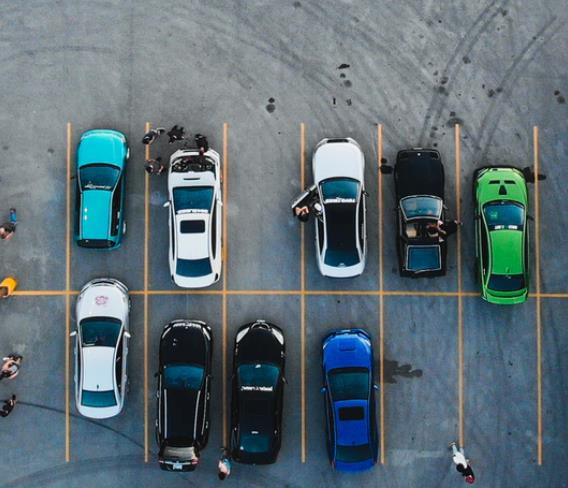car: (290, 134, 371, 281), (467, 161, 533, 307), (224, 319, 289, 466), (160, 147, 225, 288), (318, 327, 380, 473), (69, 276, 132, 419), (153, 318, 211, 471), (392, 147, 458, 280), (69, 127, 133, 251)
